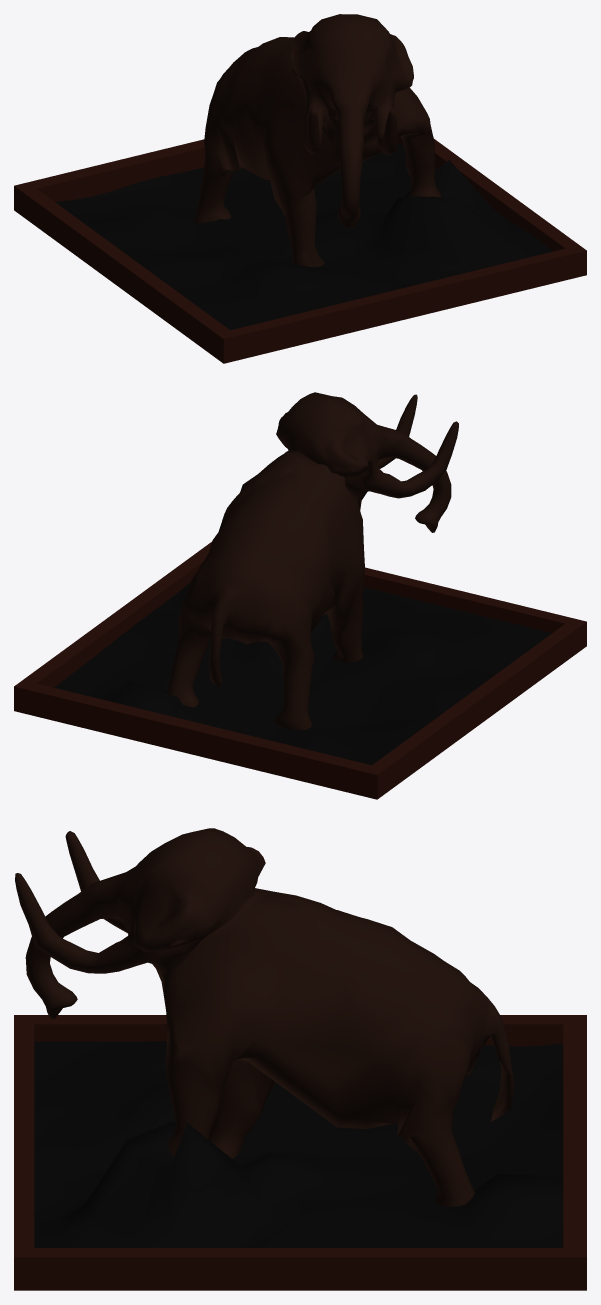
Rendered from TarPits.FBX.
The picture shows the model from 3 angles, top to bottom: view 1: azimuth 30°, elevation 25°; view 2: azimuth 150°, elevation 25°; view 3: azimuth 270°, elevation 25°; orthographic projection. The views are drawn at different scales.
Visible parts, largest first — view 1: Tar, Mammoth, Object001; view 2: Mammoth, Tar, Object001; view 3: Mammoth, Tar, Object001.
Boxes of the visible parts, x1,y1,x2,y2 form: Tar: [55, 142, 552, 330]; Mammoth: [194, 14, 441, 267]; Object001: [14, 137, 586, 363]; Mammoth: [166, 392, 458, 729]; Tar: [54, 582, 552, 765]; Object001: [14, 542, 586, 799]; Mammoth: [15, 828, 513, 1206]; Tar: [34, 1041, 563, 1247]; Object001: [14, 1015, 586, 1290].
Size of the model in its own units: 381 by 262 by 381.
